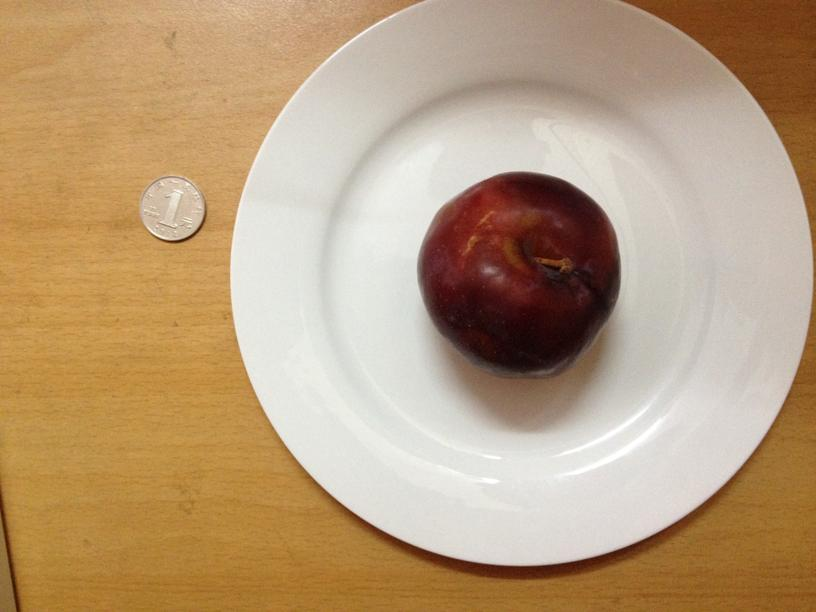coin: (138, 175, 207, 243)
plum: (413, 169, 623, 379)
